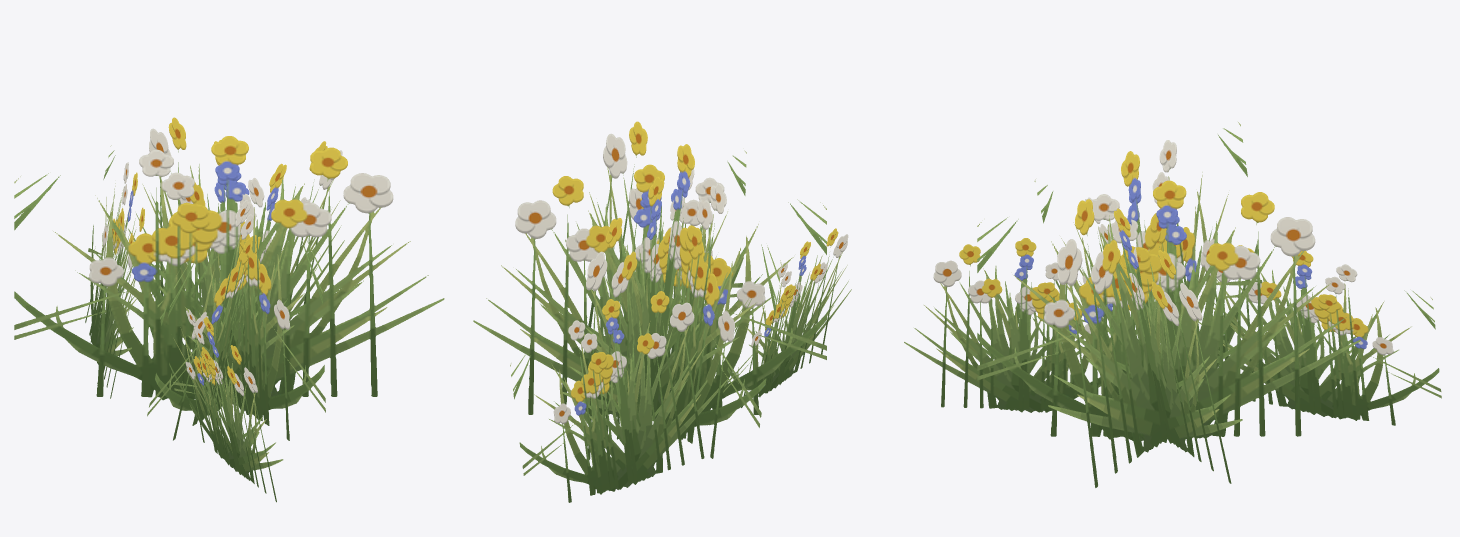
Rendered from wildflowers_mixed.glb.
3 views of the same model, side by side, from view 1: azimuth 30°, elevation 25°; view 2: azimuth 150°, elevation 25°; view 3: azimuth 270°, elevation 25° (orthographic). The views are drawn at different scales.
Visible parts, largest first — view 1: wildflowers_mixed; view 2: wildflowers_mixed; view 3: wildflowers_mixed.
Part boxes in pixels (x1=…): wildflowers_mixed: x1=14, y1=117, x2=444, y2=502; wildflowers_mixed: x1=473, y1=121, x2=851, y2=502; wildflowers_mixed: x1=904, y1=122, x2=1441, y2=487.
Bounding box in the file's own units: 0.9603 × 0.8949 × 1.28.
1 material, 1 textured.
